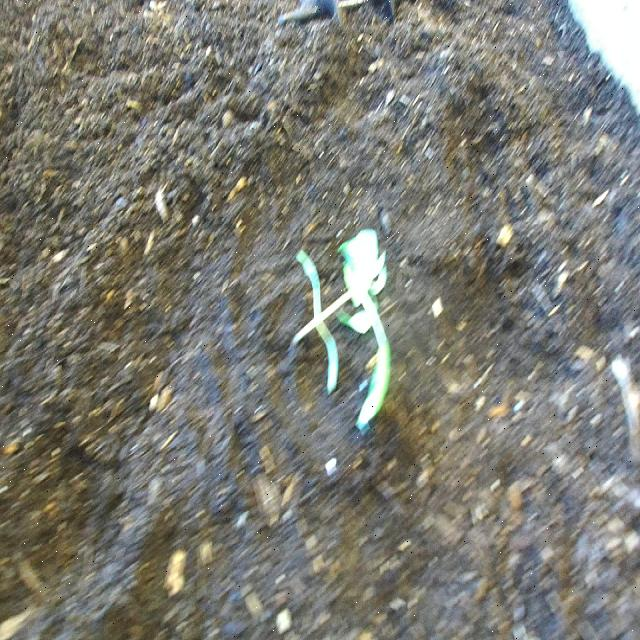Healthy: (276, 204, 412, 436)
